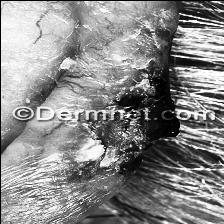Potentially Malignant Skin Tumors: (114, 29, 184, 104), (82, 142, 152, 174), (86, 121, 186, 139)
